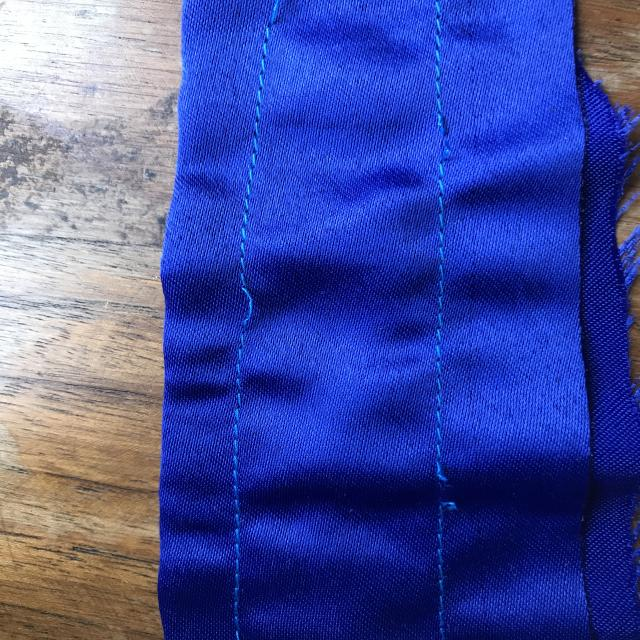broken: (413, 443, 473, 527)
good: (428, 314, 458, 409)
skip: (224, 272, 266, 349)
